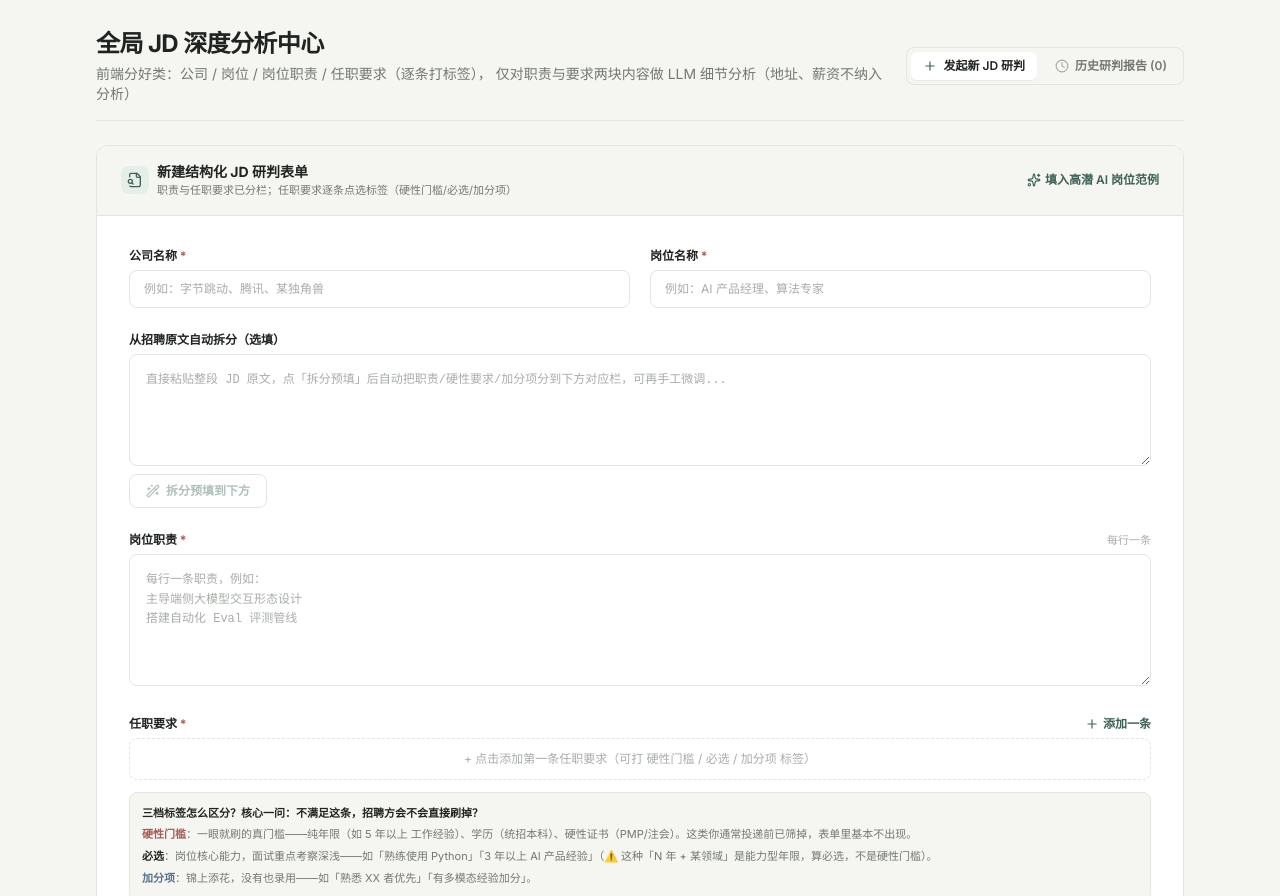
Test case: 历史表格 · 客户端分页（T-M4-4） › 当前页越界（删除后行数变少）自动回退到最后一页
Click the button "历史研判报告 (0)" at (1111, 66), box left=1043, top=52, right=1179, bottom=80
(page scrolled)
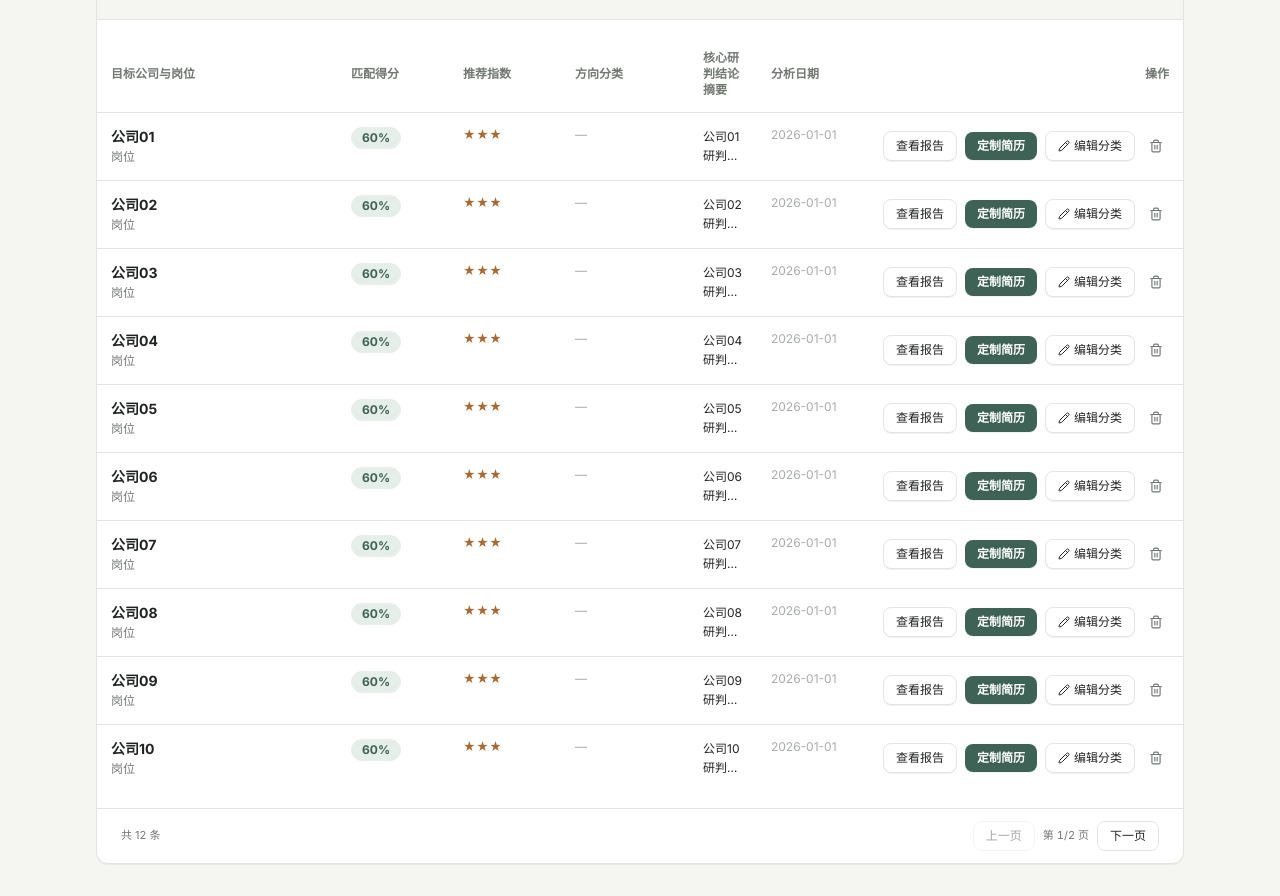
Click the button with test id "jd-history-next" at (1128, 836), box left=1097, top=820, right=1159, bottom=850
(page scrolled)
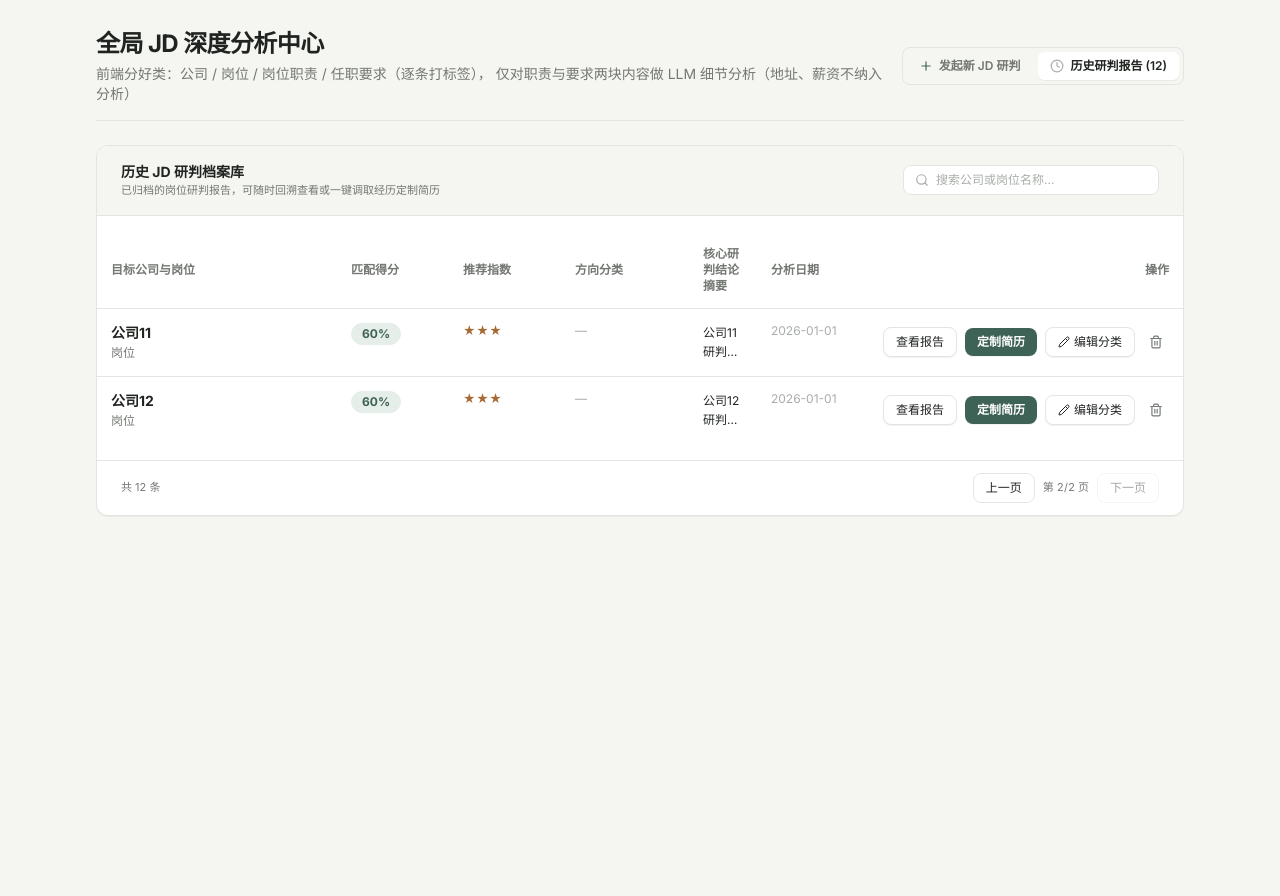
Result: the text "公司11" is shown at left=111, top=324, right=151, bottom=340
Result: the text with test id "jd-history-page-info" reads "第 2/2 页" at left=1043, top=479, right=1089, bottom=496
Click the button titled "删除记录" in the row of "公司11 研判结论" at (1156, 342), box left=1143, top=329, right=1169, bottom=355
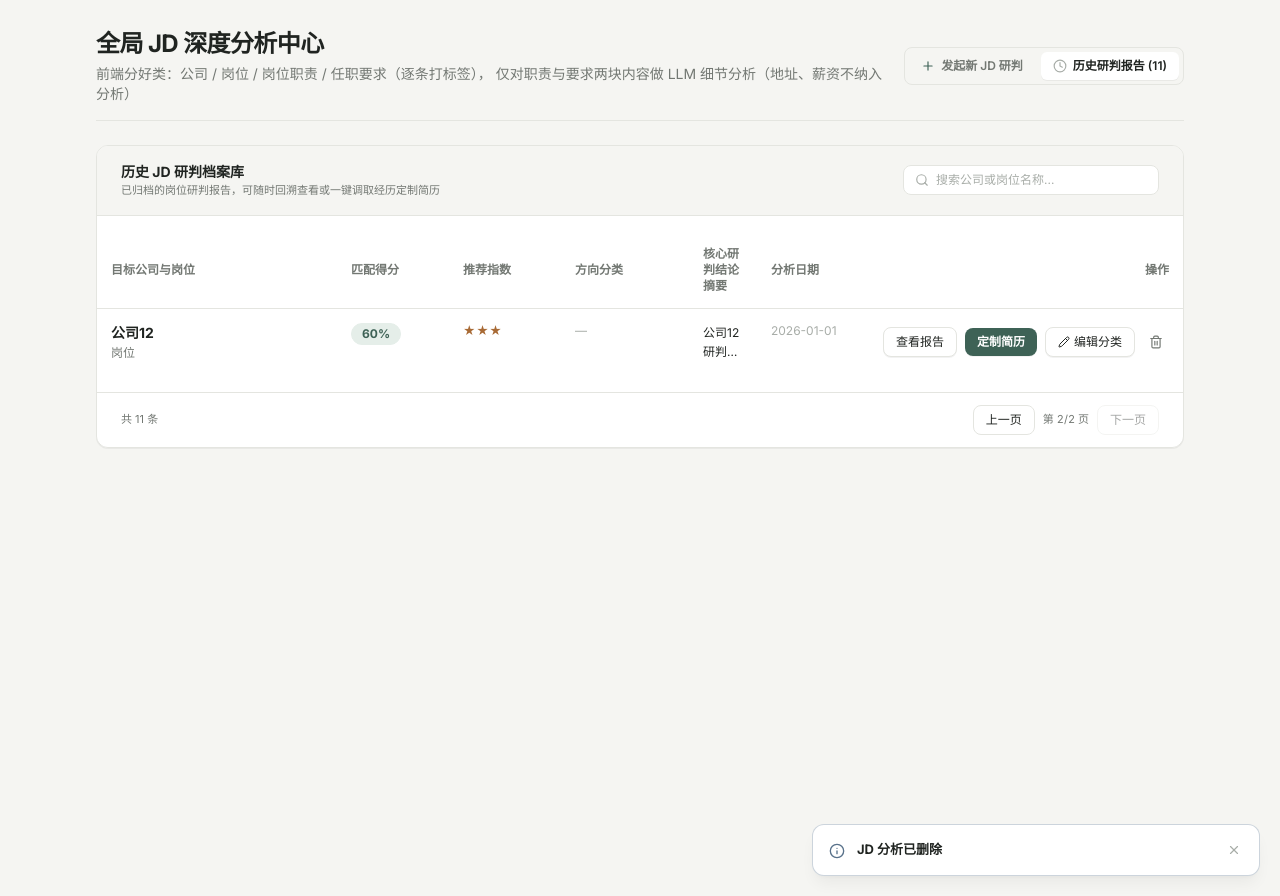
Result: the text "公司12" is shown at left=111, top=324, right=154, bottom=340
Result: the text with test id "jd-history-page-info" reads "第 2/2 页" at left=1043, top=411, right=1089, bottom=428
Result: the text "公司11" is gone
Click the button titled "删除记录" at (1156, 342), box left=1143, top=329, right=1169, bottom=355
(page scrolled)
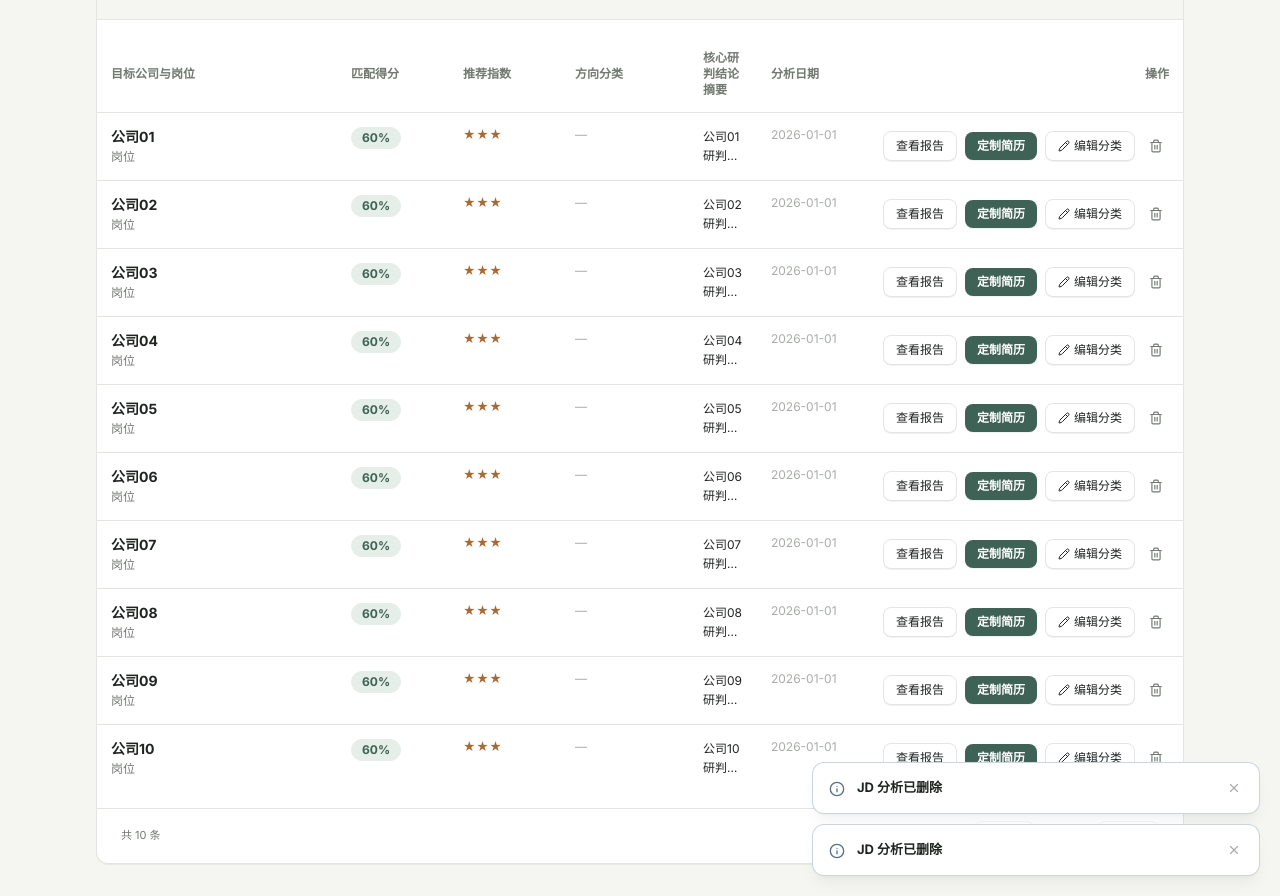
Result: the text "公司01" is shown at left=111, top=128, right=154, bottom=144
Result: the text "公司12" is gone
